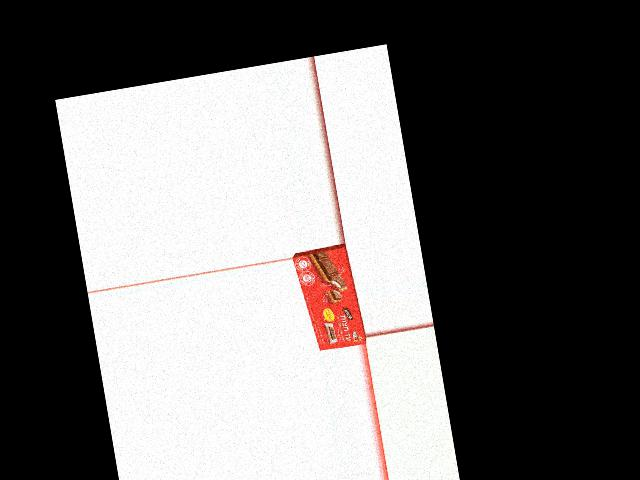chocolate: (297, 244, 362, 353)
